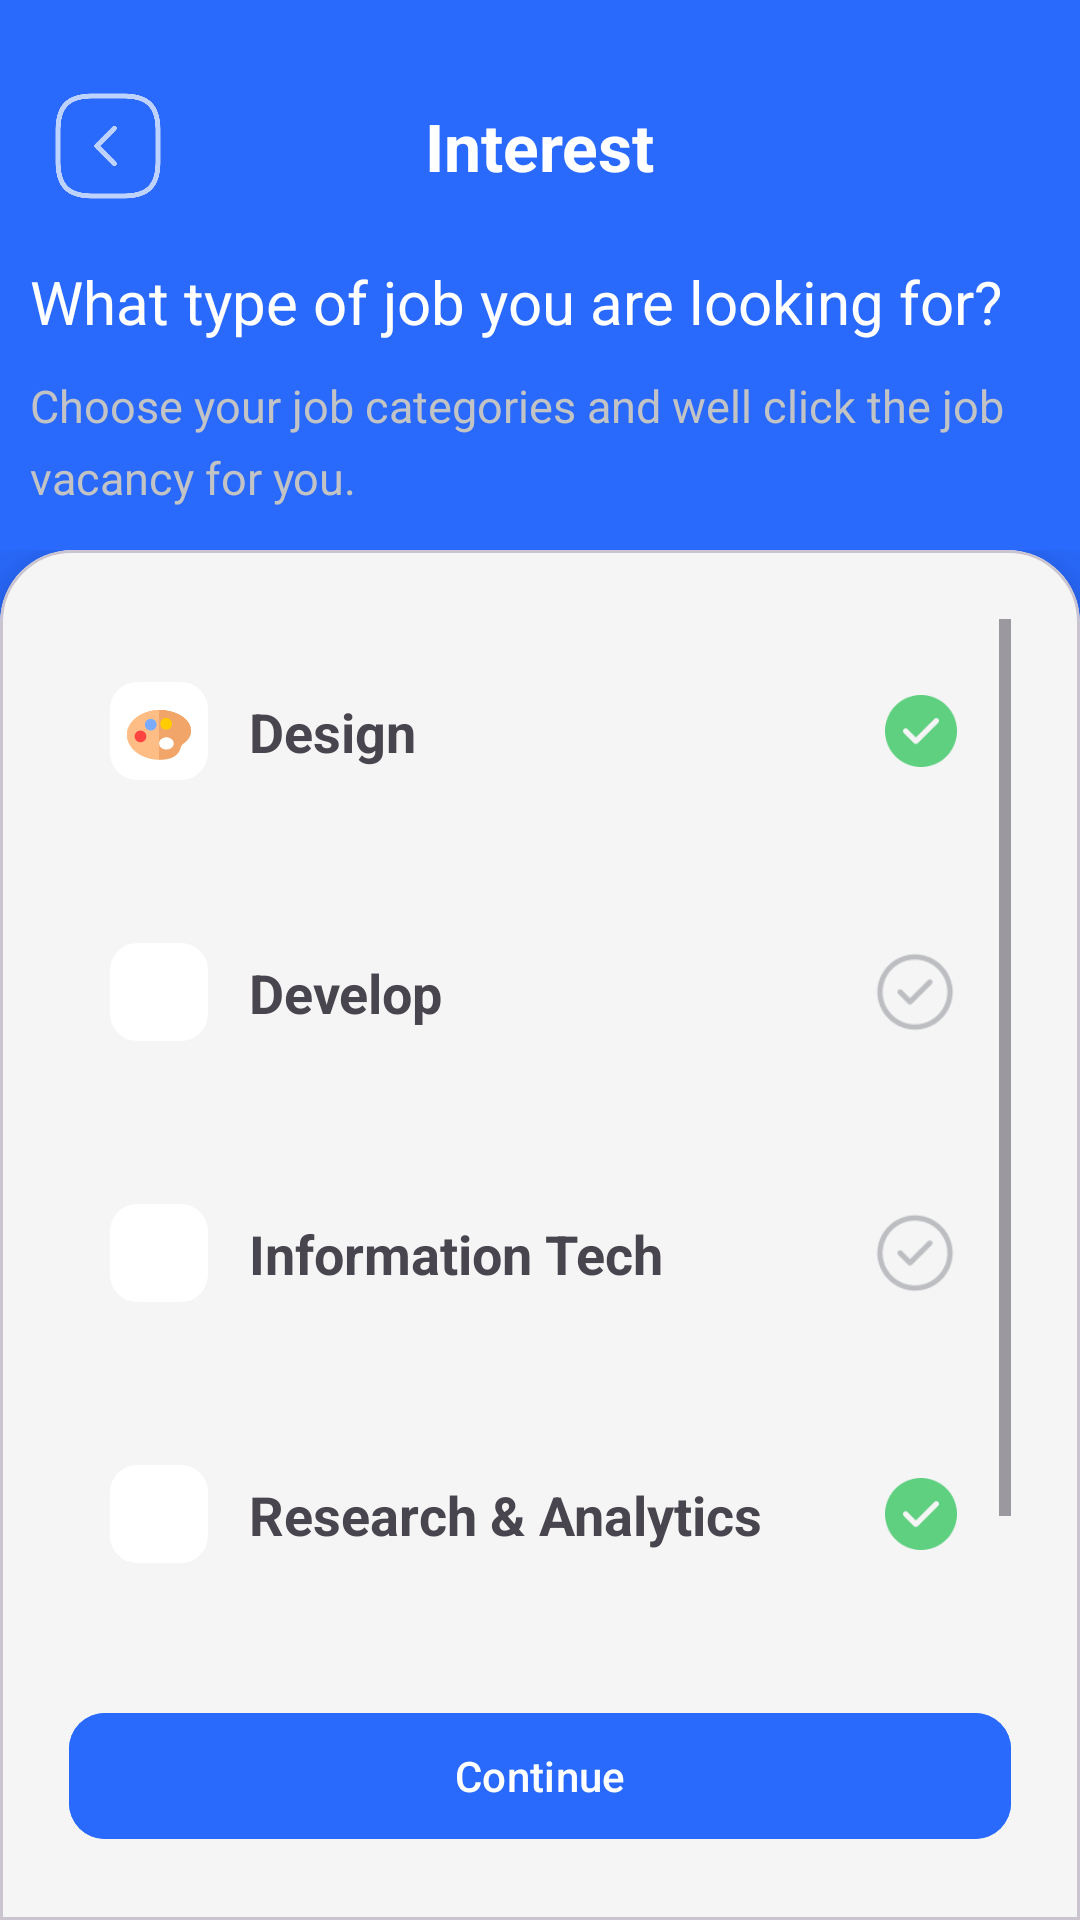

Where to tap for icons on this 1080 x 1920 app screen, as (x,y):
arrow back: (108,146)
tick: (921,731), (921,1514)
tick circle unchecked: (915,992), (915,1253)
